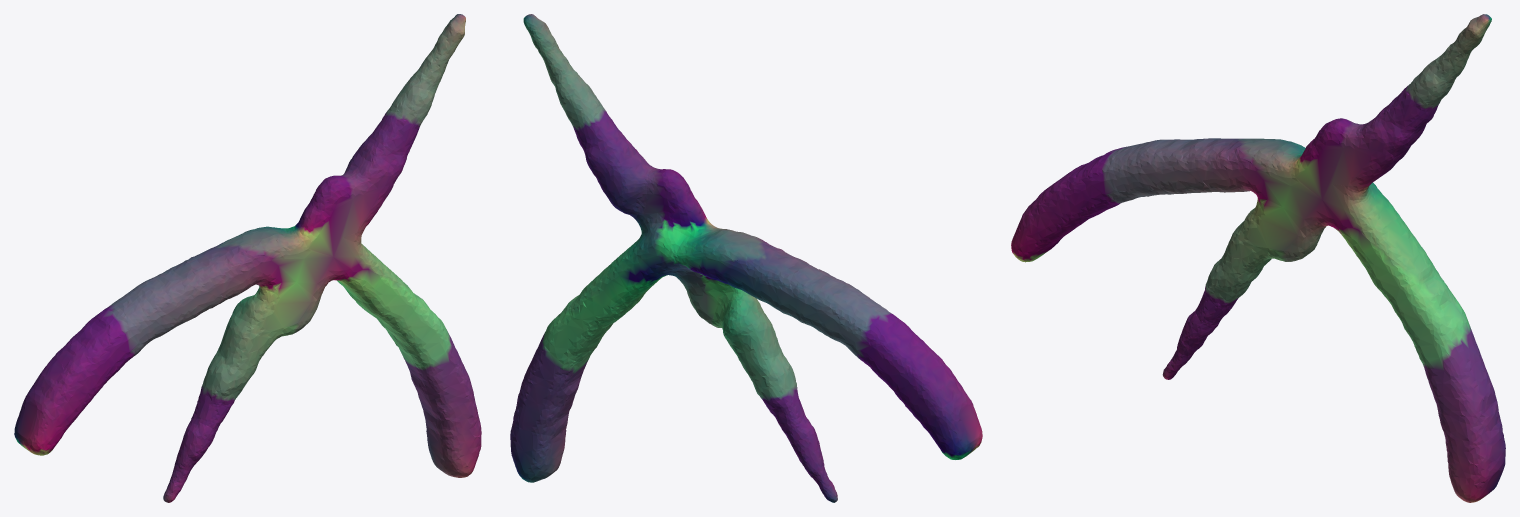
The model's file is pliers-16.off.obj.
The picture shows the model from 3 angles, left to right: view 1: azimuth 30°, elevation 25°; view 2: azimuth 150°, elevation 25°; view 3: azimuth 330°, elevation 25°; orthographic projection. The views are drawn at different scales.
Size of the model in its own units: 1.37 by 1.32 by 0.1475.
